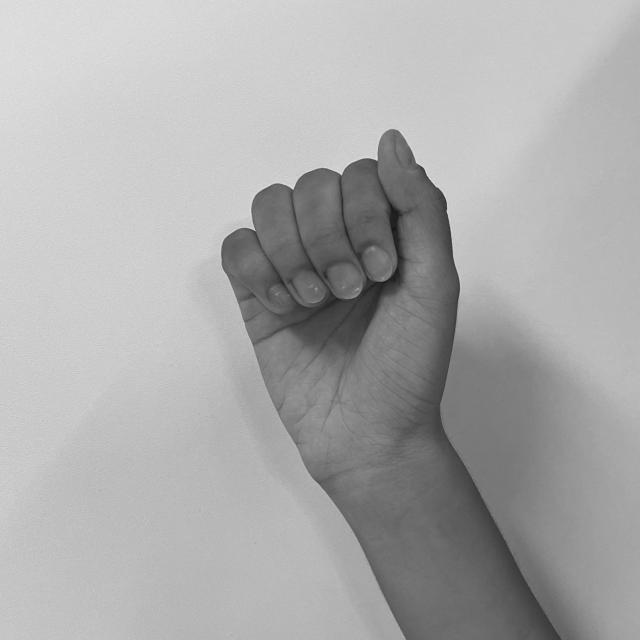Letra A: (214, 122, 473, 483)
